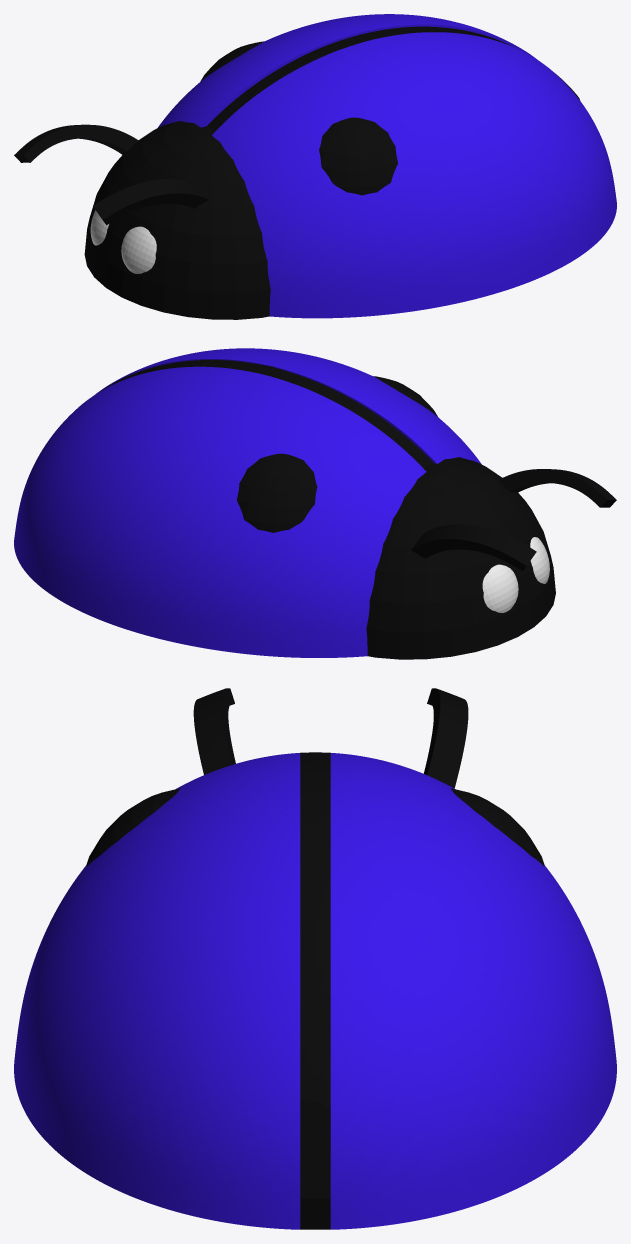
The model's file is Blue_Ladybird.glb.
3 renders of one model, top to bottom at view 1: azimuth 30°, elevation 25°; view 2: azimuth 150°, elevation 25°; view 3: azimuth 270°, elevation 25°, orthographic. The views are drawn at different scales.
Visible parts, largest first — view 1: Body, Head, L_Spot, L_Tenna, Stripe, R_Tenna, L_Eye, R_Spot, R_Eye; view 2: Body, Head, R_Spot, Stripe, R_Tenna, L_Tenna, R_Eye, L_Eye, L_Spot; view 3: Body, Stripe, R_Tenna, L_Tenna, R_Spot, L_Spot.
Boxes of the visible parts, left/top/right/bottom form: Body: left=158, top=14, right=616, bottom=318; Head: left=84, top=121, right=270, bottom=319; L_Spot: left=319, top=117, right=397, bottom=195; L_Tenna: left=93, top=179, right=208, bottom=225; Stripe: left=207, top=26, right=579, bottom=132; R_Tenna: left=14, top=124, right=138, bottom=162; L_Eye: left=121, top=226, right=156, bottom=273; R_Spot: left=200, top=41, right=263, bottom=81; R_Eye: left=90, top=210, right=108, bottom=245; Body: left=14, top=348, right=481, bottom=657; Head: left=366, top=457, right=555, bottom=659; R_Spot: left=237, top=453, right=317, bottom=532; Stripe: left=100, top=360, right=433, bottom=467; R_Tenna: left=411, top=524, right=536, bottom=571; L_Tenna: left=499, top=469, right=616, bottom=507; R_Eye: left=482, top=564, right=518, bottom=612; L_Eye: left=530, top=537, right=549, bottom=583; L_Spot: left=373, top=376, right=438, bottom=417; Body: left=14, top=753, right=616, bottom=1229; Stripe: left=300, top=756, right=330, bottom=1229; R_Tenna: left=423, top=688, right=468, bottom=788; L_Tenna: left=193, top=688, right=235, bottom=774; R_Spot: left=450, top=788, right=544, bottom=866; L_Spot: left=86, top=788, right=180, bottom=866.
Bounding box in the file's own units: 2.93 × 0.9942 × 1.99.
